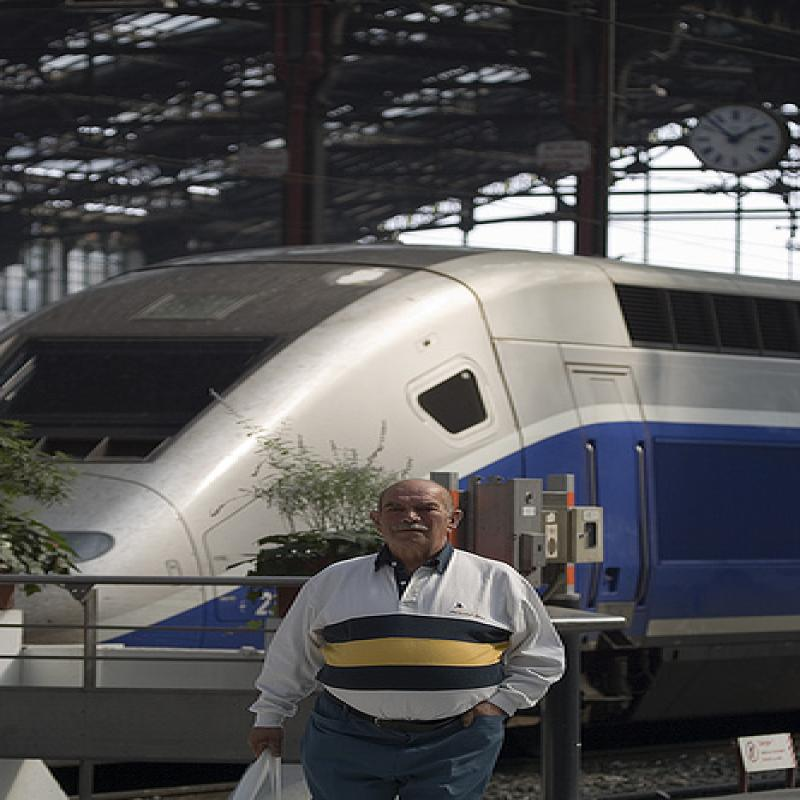train: (3, 237, 800, 736)
